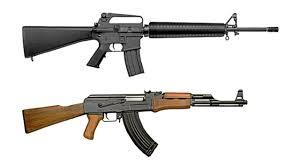gun: (8, 11, 281, 150)
